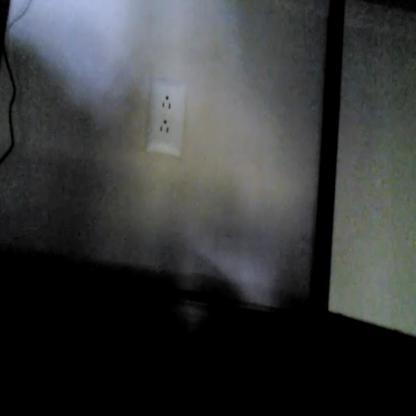OUTLET: (147, 81, 186, 162)
